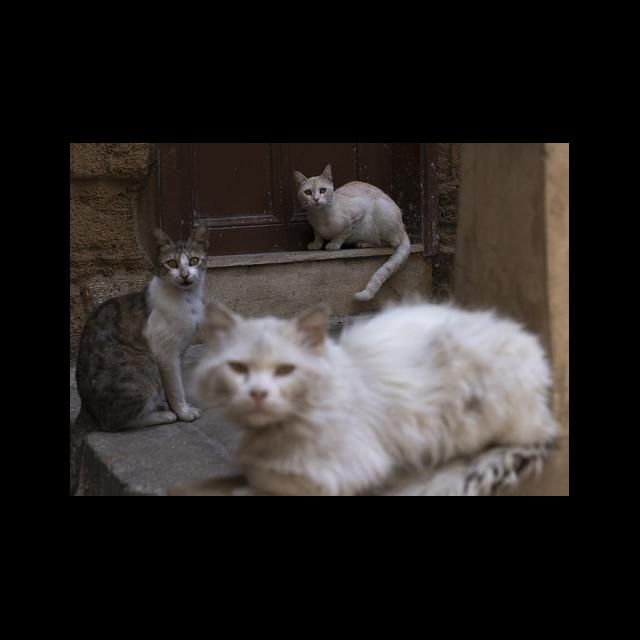animals: (207, 298, 556, 491), (70, 220, 212, 432), (294, 164, 403, 250)
